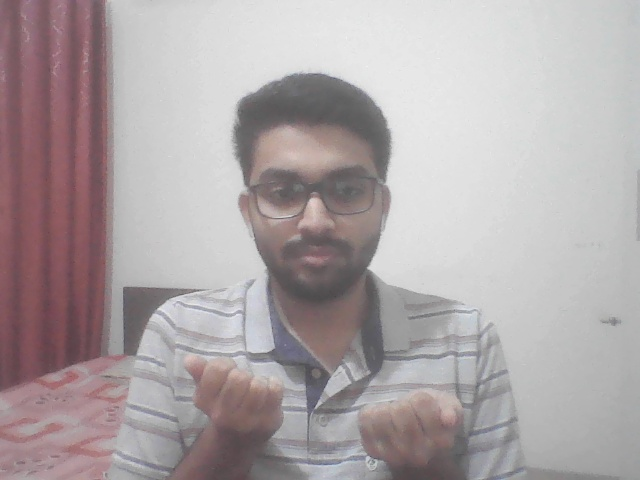want: (155, 324, 490, 474)
